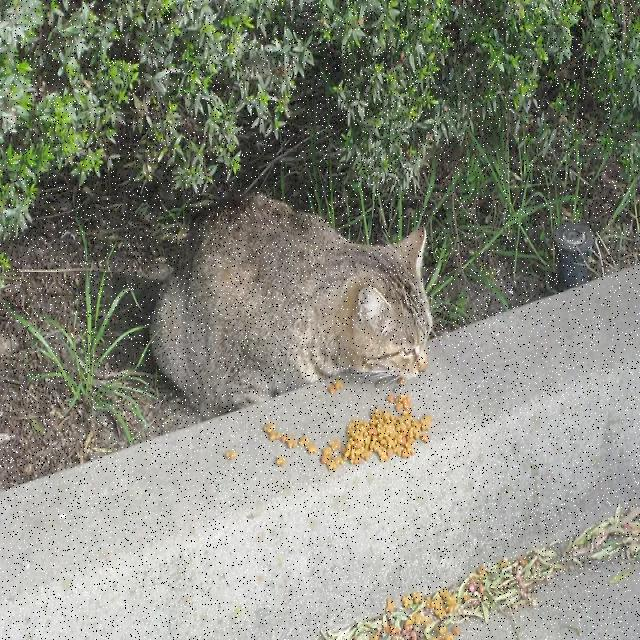cat: (152, 195, 432, 418)
